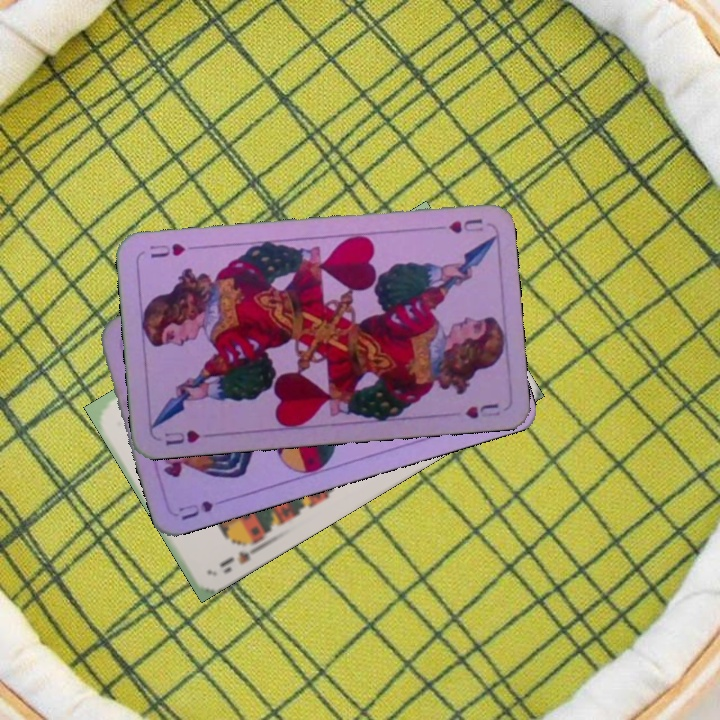HU: (429, 214, 486, 236), (160, 425, 202, 448)
S9: (215, 537, 266, 570)
SU: (174, 493, 233, 523)
